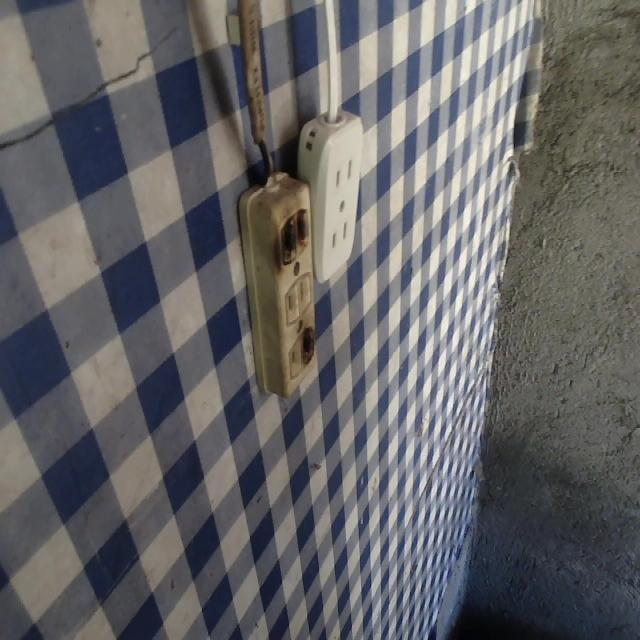-: (273, 204, 313, 263), (299, 323, 317, 365)
